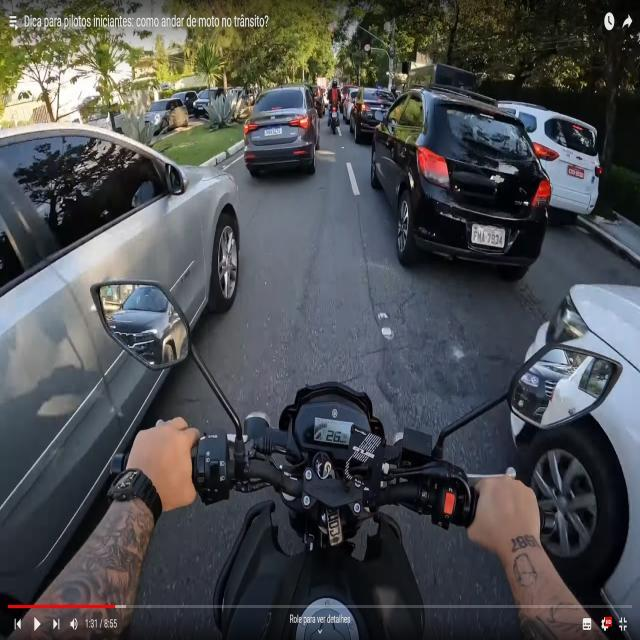Placa_mercosul_carro: (472, 224, 505, 247)
